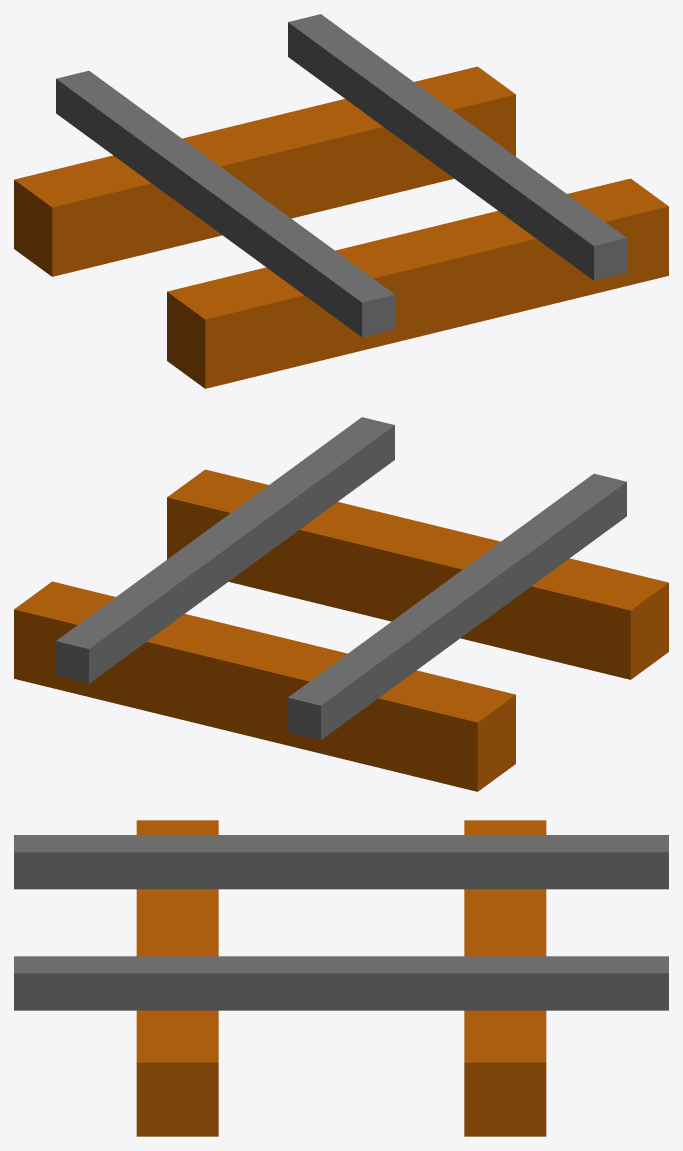
File: Rail.fbx
3 renders of one model, top to bottom at view 1: azimuth 30°, elevation 25°; view 2: azimuth 150°, elevation 25°; view 3: azimuth 270°, elevation 25°, orthographic. The views are drawn at different scales.
Parts seen in each view (by area): view 1: Rail:Mesh; view 2: Rail:Mesh; view 3: Rail:Mesh.
Boxes of the visible parts, x1=… form: Rail:Mesh: x1=14, y1=14, x2=668, y2=388; Rail:Mesh: x1=14, y1=417, x2=668, y2=791; Rail:Mesh: x1=14, y1=820, x2=668, y2=1136.
Size of the model in its own units: 87.64 by 18.78 by 100.
